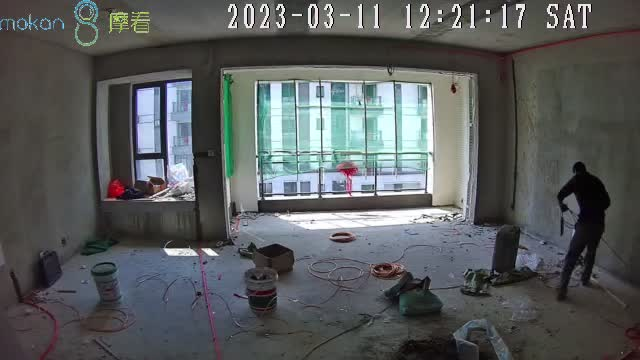people: (558, 161, 610, 299)
window: (255, 80, 432, 196), (128, 84, 195, 190)
